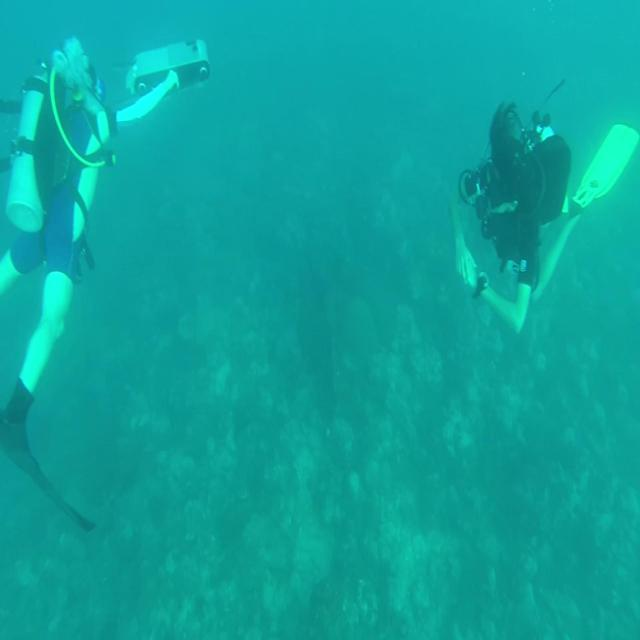human: (0, 33, 210, 532), (450, 97, 638, 334)
